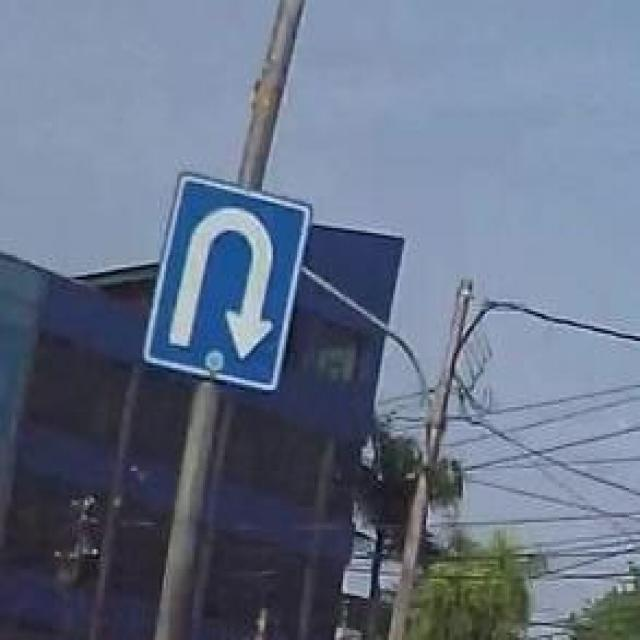traffic sign: (144, 170, 314, 393)
